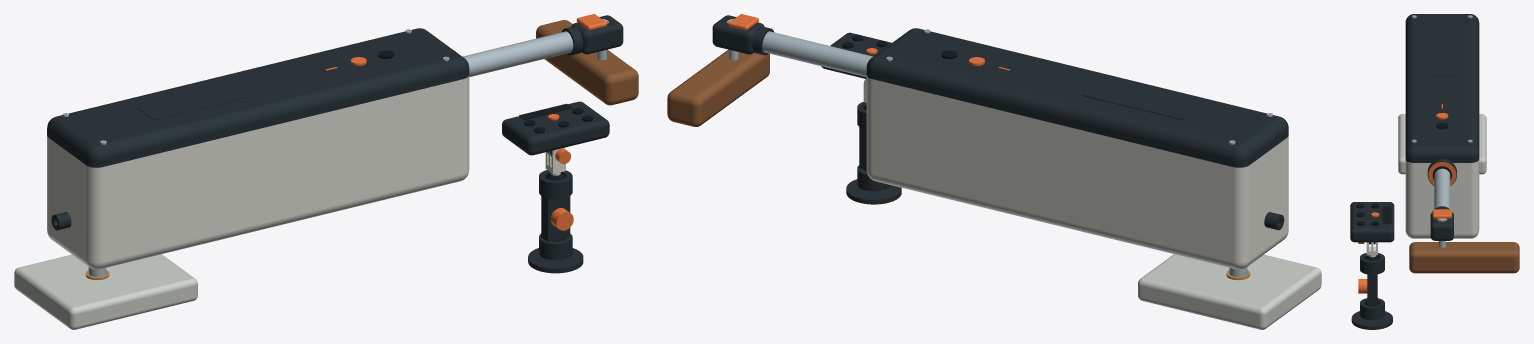
Rendered from omatiller-02.glb.
The picture shows the model from 3 angles, left to right: view 1: azimuth 30°, elevation 25°; view 2: azimuth 150°, elevation 25°; view 3: azimuth 270°, elevation 25°; orthographic projection. The views are drawn at different scales.
Parts seen in each view (by area): view 1: lower_housing, service_cover, cockpit_seat, tiller_section, remote_body, pushrod, nameplate, tiller_fitting, ball_arm, mount_base, upper_ball_socket, lower_ball_socket; view 2: lower_housing, service_cover, cockpit_seat, tiller_section, pushrod, nameplate, tiller_fitting, mount_base, remote_body; view 3: service_cover, lower_housing, tiller_section, remote_body, cockpit_seat, nameplate, pushrod, tiller_fitting, mount_base, upper_ball_socket, lower_ball_socket, ball_arm (+5 smaller).
Part boxes in pixels (x1,y1,x2,y2): lower_housing: (47,75,469,269); service_cover: (47,28,469,167); cockpit_seat: (14,254,197,329); tiller_section: (536,20,638,105); remote_body: (502,101,609,155); pushrod: (462,31,573,77); nameplate: (137,83,254,119); tiller_fitting: (571,15,623,54); ball_arm: (541,196,570,242); mount_base: (528,248,583,273); upper_ball_socket: (539,170,572,199); lower_ball_socket: (539,233,572,260); lower_housing: (866,76,1288,269); service_cover: (866,28,1288,167); cockpit_seat: (1138,254,1321,329); tiller_section: (667,49,769,126); pushrod: (762,31,872,77); nameplate: (1081,83,1197,119); tiller_fitting: (712,15,764,54); mount_base: (846,179,901,204); remote_body: (821,32,891,78); service_cover: (1405,14,1479,162); lower_housing: (1405,159,1479,238); tiller_section: (1409,242,1519,273); remote_body: (1350,202,1394,242); cockpit_seat: (1398,114,1486,174); nameplate: (1430,38,1453,75); pushrod: (1434,168,1450,209); tiller_fitting: (1430,212,1453,240); mount_base: (1351,311,1392,329); upper_ball_socket: (1360,253,1384,274); lower_ball_socket: (1360,298,1384,320); ball_arm: (1367,274,1377,306).
Size of the model in its own units: 0.674 by 0.2269 by 0.23.
